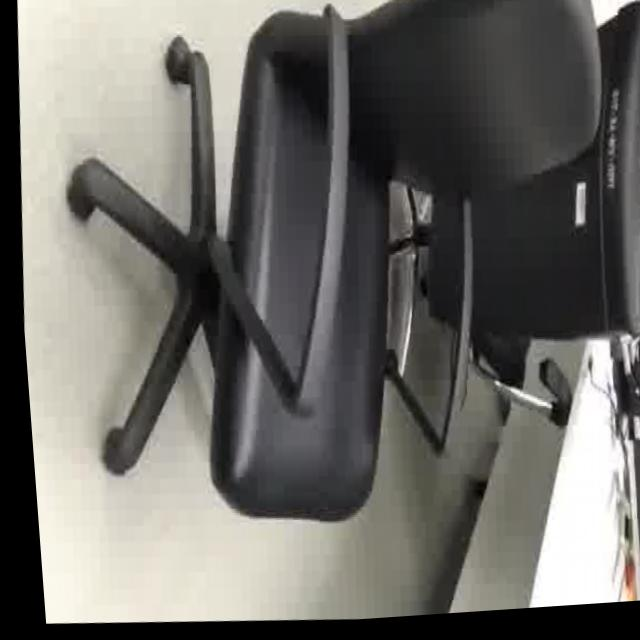chair: (10, 0, 640, 604)
